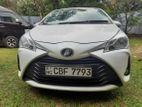car: (14, 6, 136, 97)
